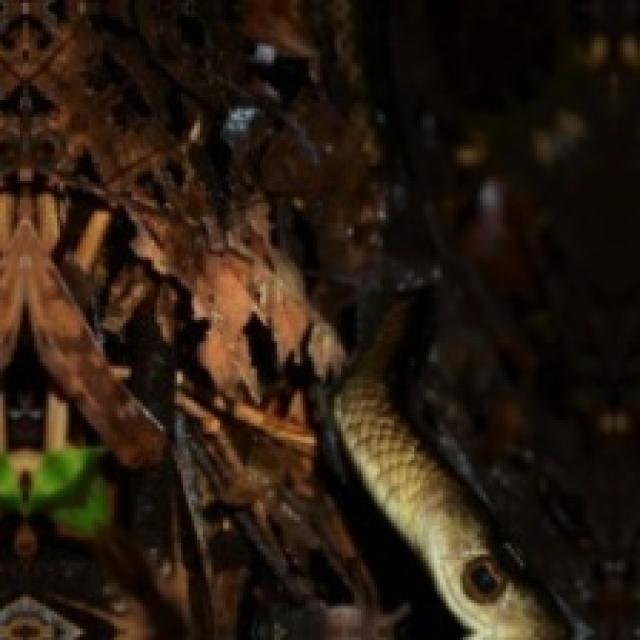smooth-scaled mountain rat snake: (300, 0, 610, 640)
